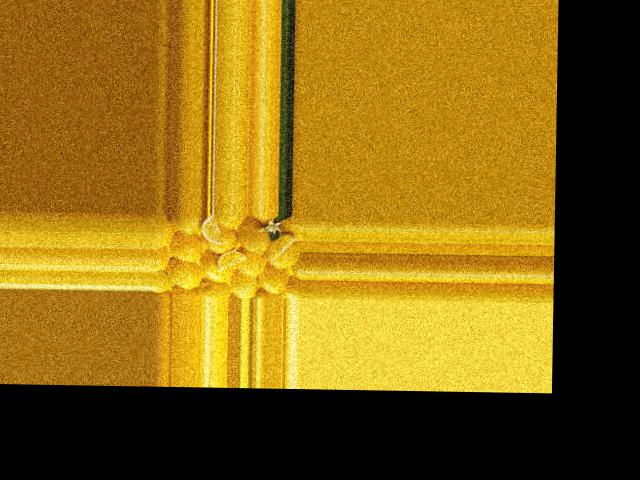lemon: (170, 213, 203, 240)
